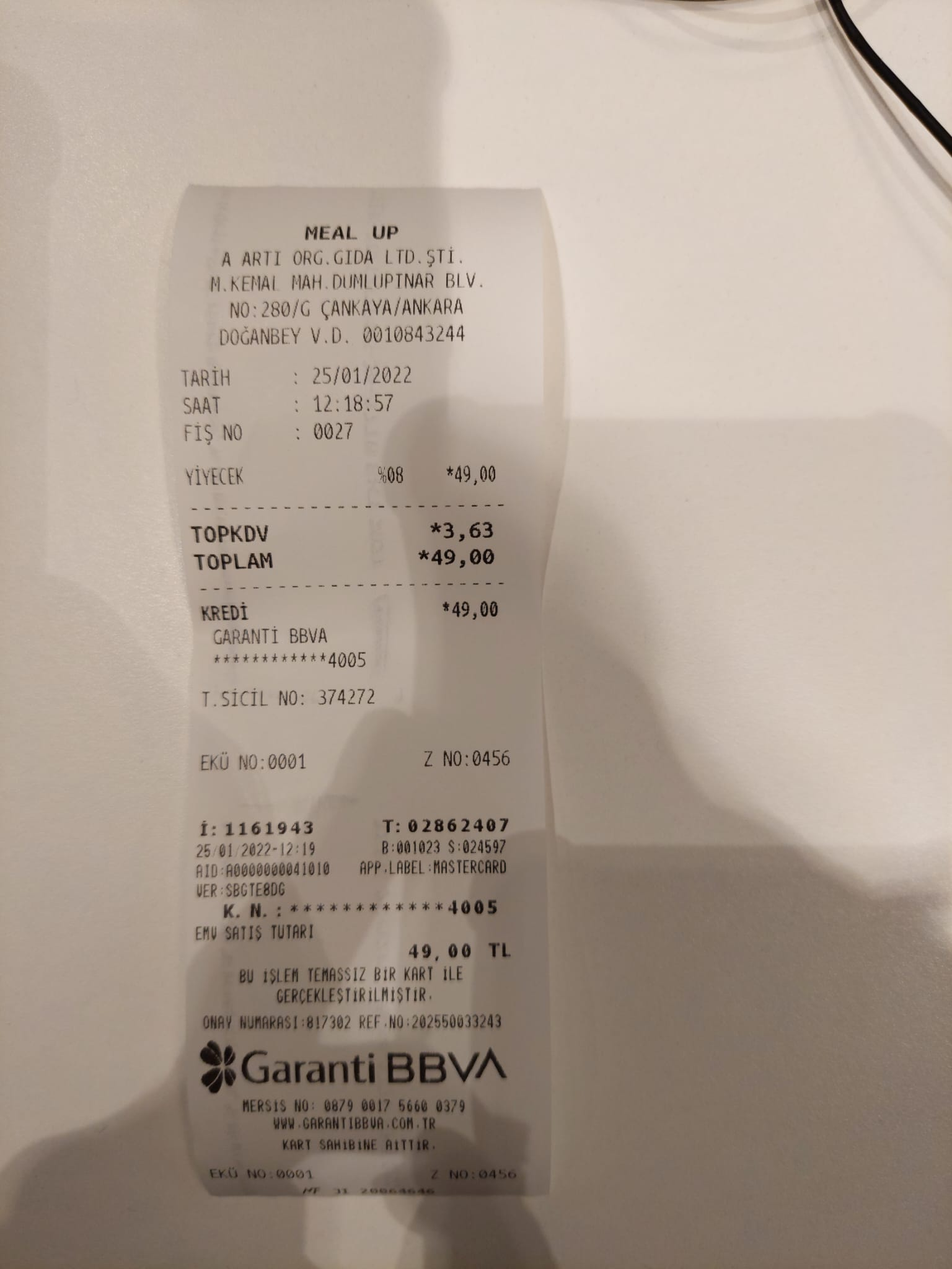date: (430, 544, 502, 573)
price: (307, 362, 415, 389)
workplace: (204, 217, 494, 321)
